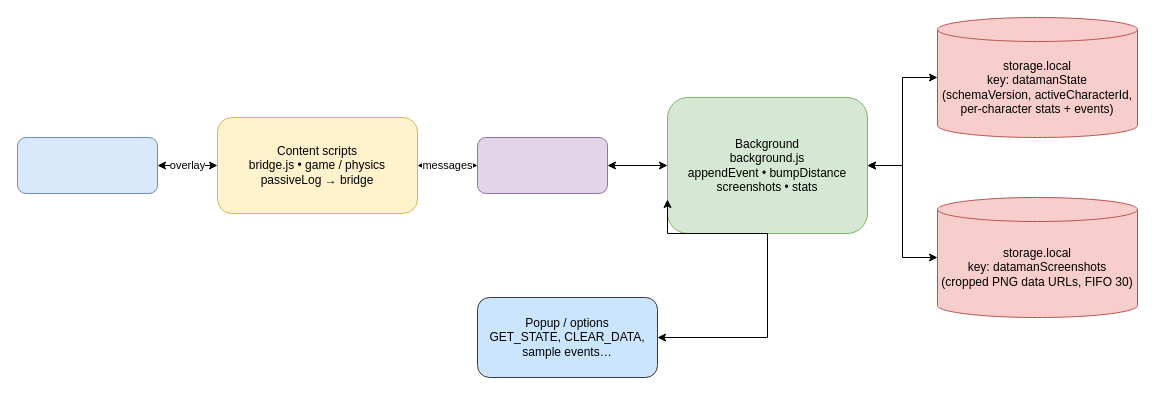
Some shapes in this 1155 by 395 pixel diagram are drawn without their labels. Here are the shapes that lost their labels. From the top down, the centre of each, then its label:
At [87,165]: "Web page (tab DOM)".
At [542,165]: "browser.runtime sendMessage".
